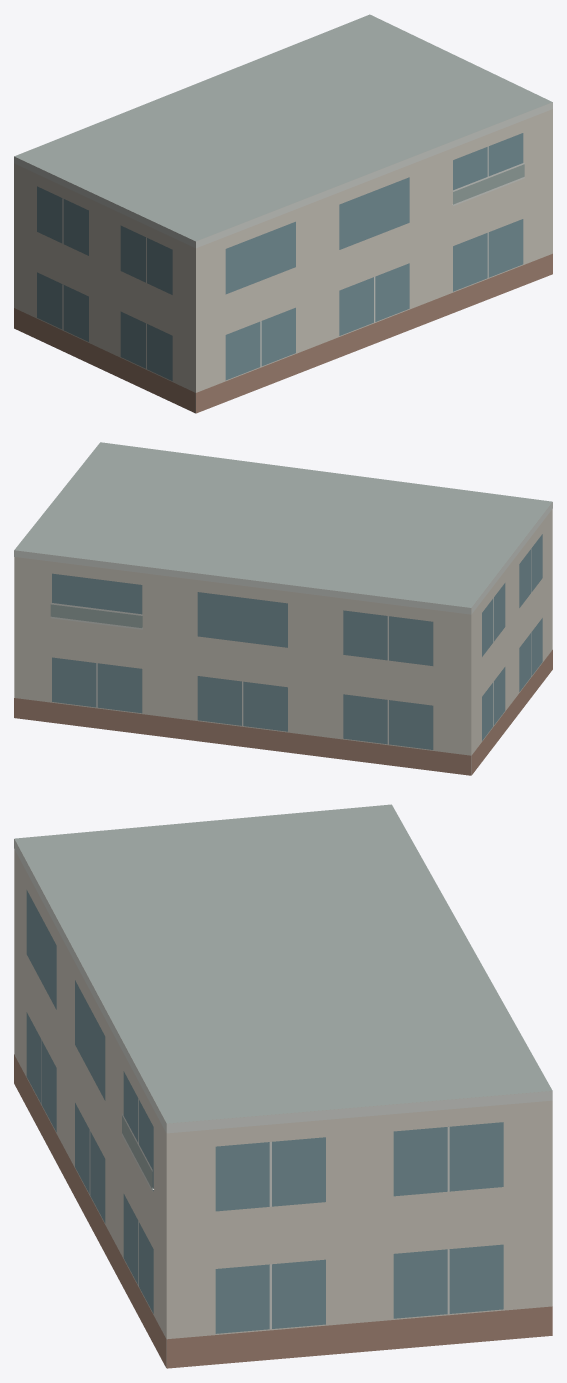
The model's file is survey-upis-32583023.glb.
3 views of the same model, one above another, from view 1: azimuth 30°, elevation 25°; view 2: azimuth 150°, elevation 25°; view 3: azimuth 270°, elevation 25° (orthographic). The views are drawn at different scales.
Visible parts, largest first — view 1: survey-upis-32583023.tmp; view 2: survey-upis-32583023.tmp; view 3: survey-upis-32583023.tmp.
Part boxes in pixels (x1,y1,x2,y2): survey-upis-32583023.tmp: (14, 14, 552, 413); survey-upis-32583023.tmp: (14, 442, 552, 775); survey-upis-32583023.tmp: (14, 804, 552, 1368).
Size of the model in its own units: 17.07 by 6.1 by 12.17.
